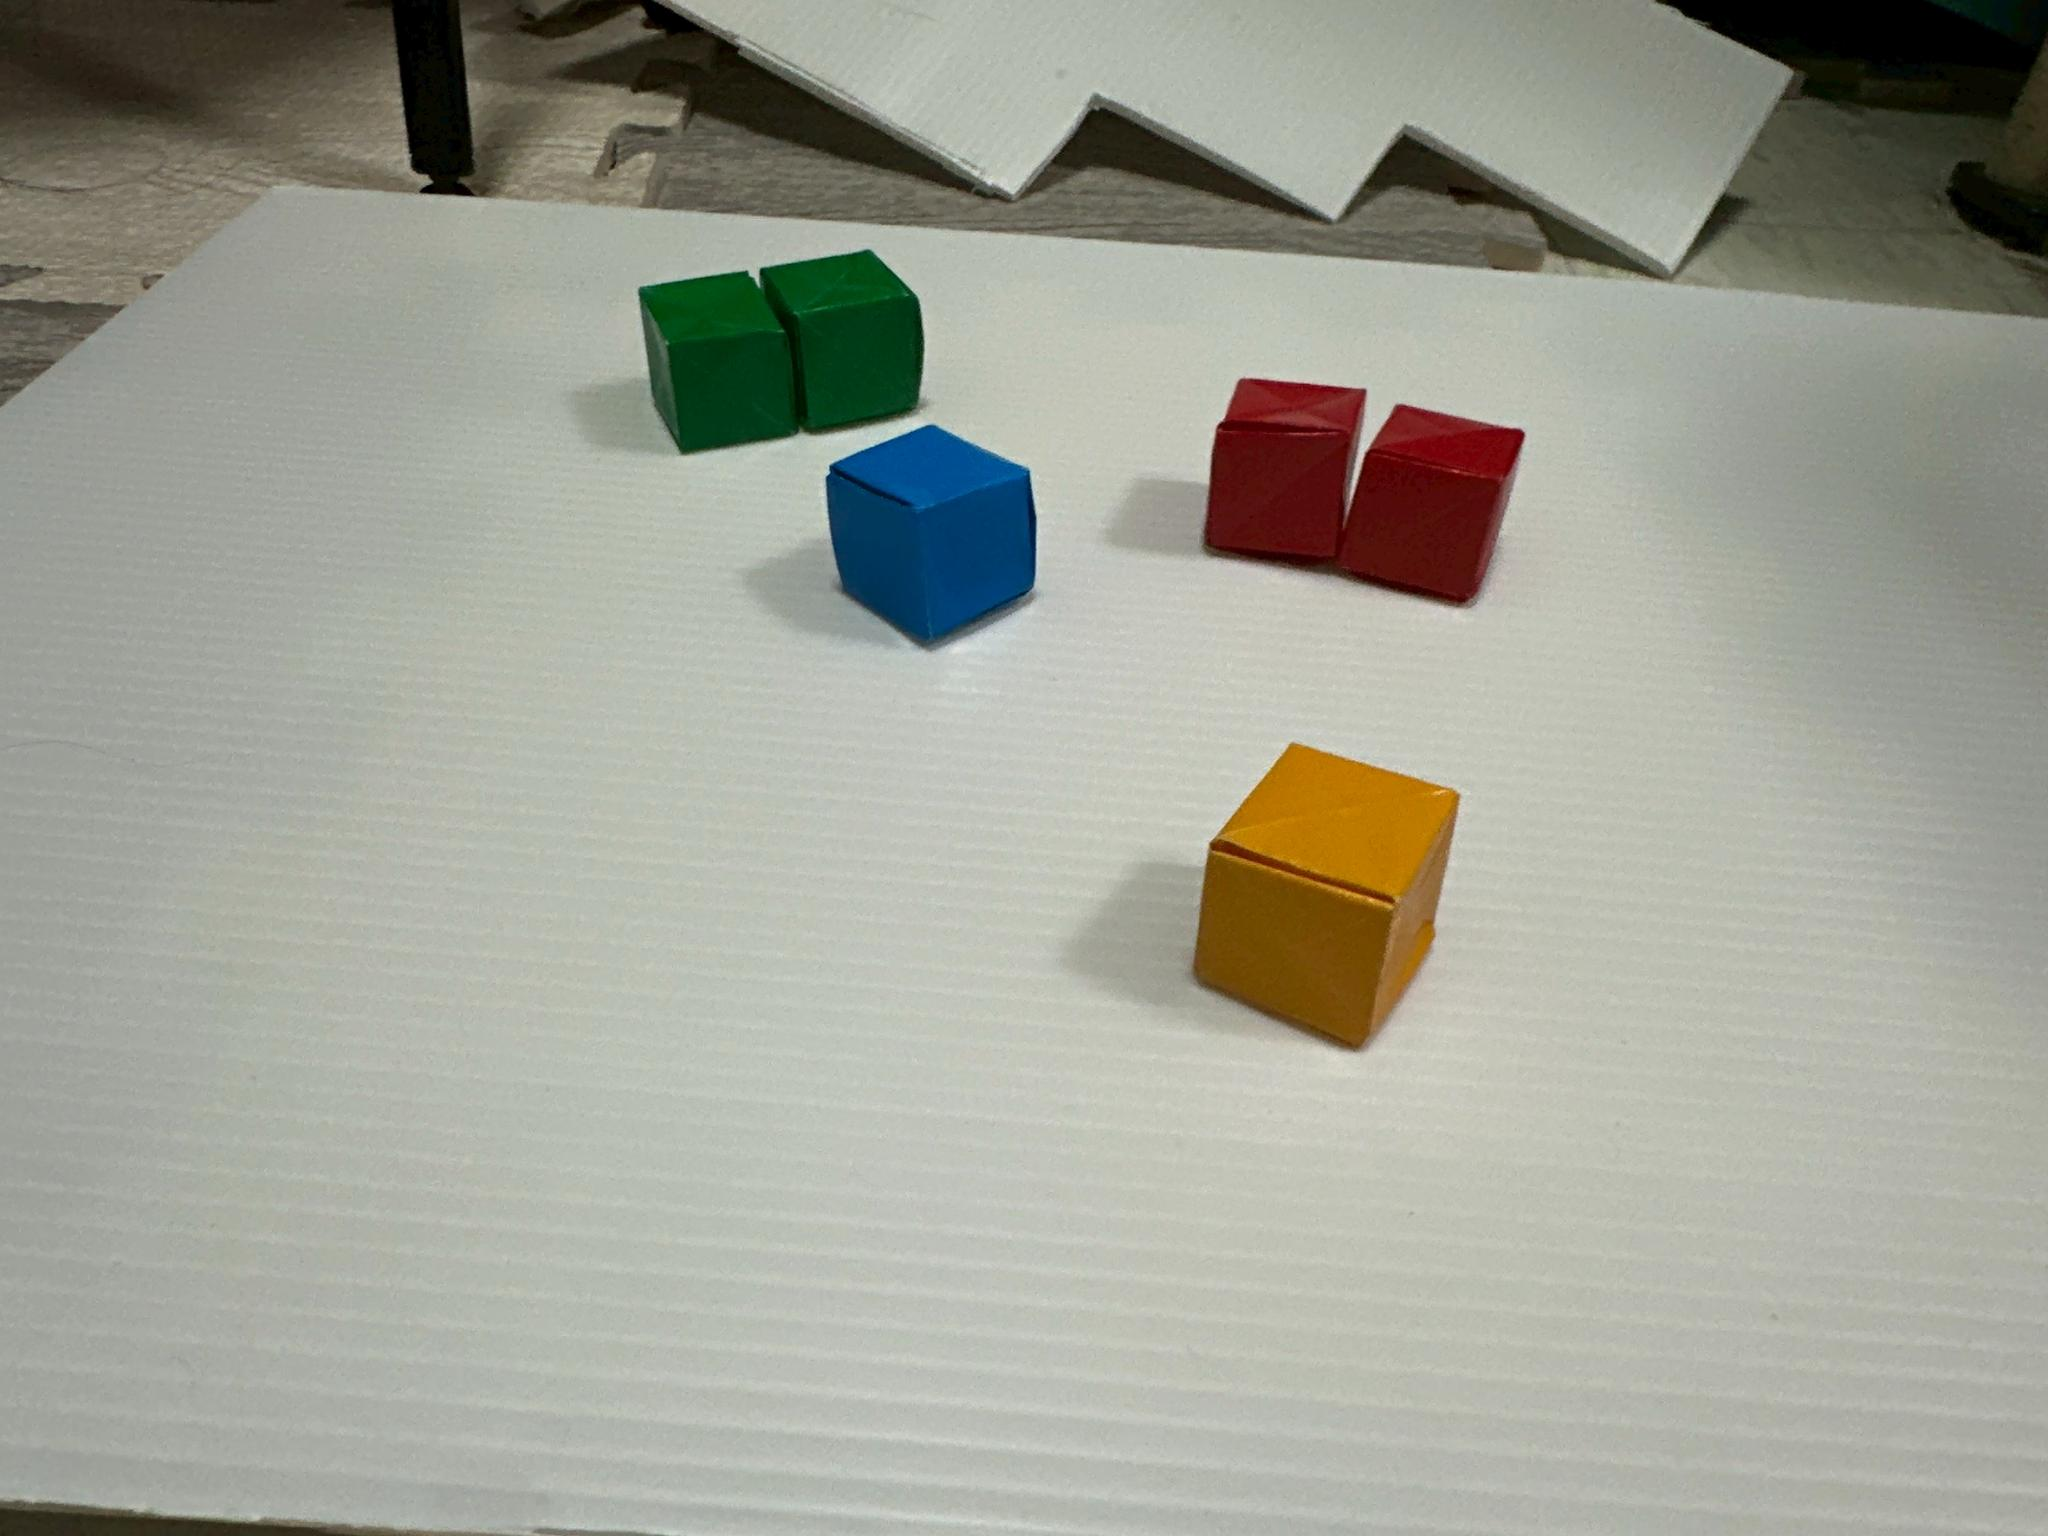cube: (1195, 747, 1459, 1047), (827, 426, 1037, 644), (1340, 405, 1524, 603), (1205, 379, 1364, 565), (761, 250, 924, 429), (639, 271, 800, 452)
